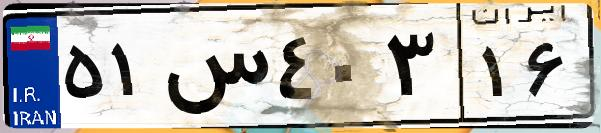0: (330, 28, 385, 110)
1: (475, 38, 525, 113), (110, 28, 158, 98)
3: (385, 28, 445, 110)
4: (270, 28, 330, 110)
5: (57, 26, 110, 100)
6: (525, 38, 570, 115)
س: (158, 20, 270, 120)
